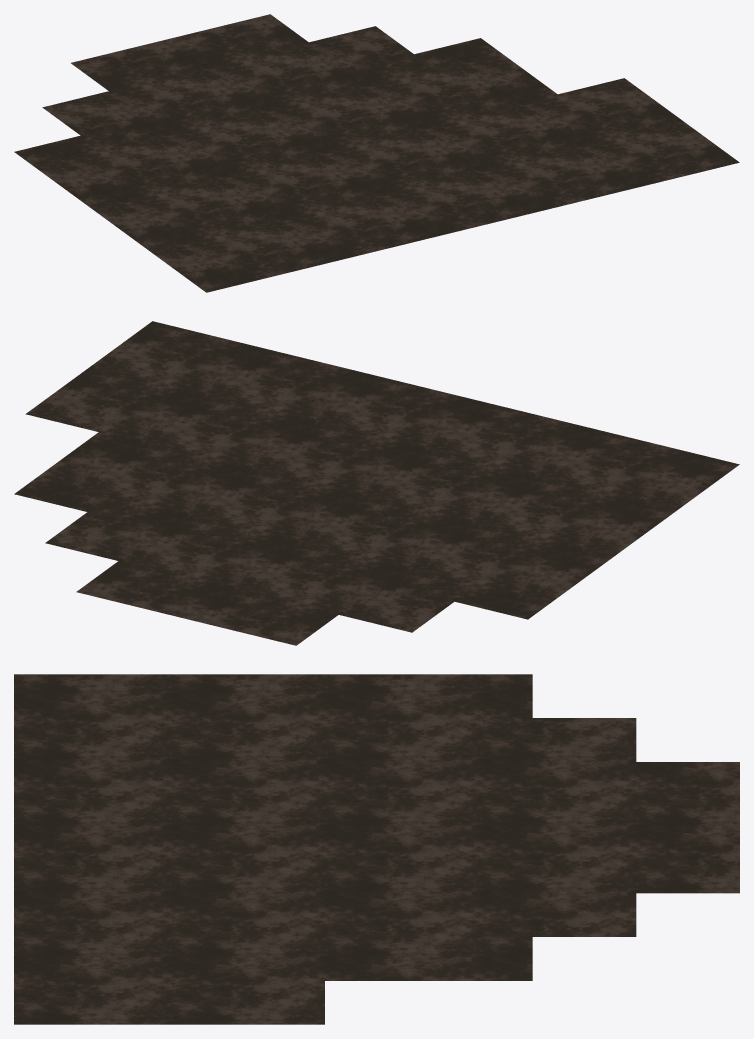
File: floor_3_-4.glb
3 views of the same model, one above another, from view 1: azimuth 30°, elevation 25°; view 2: azimuth 150°, elevation 25°; view 3: azimuth 270°, elevation 25° (orthographic). The views are drawn at different scales.
Visible parts, largest first — view 1: floor_3_-4; view 2: floor_3_-4; view 3: floor_3_-4.
Part boxes in pixels (x1,y1,x2,y2): floor_3_-4: (14,14,739,292); floor_3_-4: (14,321,739,645); floor_3_-4: (14,674,739,1024).
Size of the model in its own units: 32 by 0 by 28.
1 material, 1 textured.
